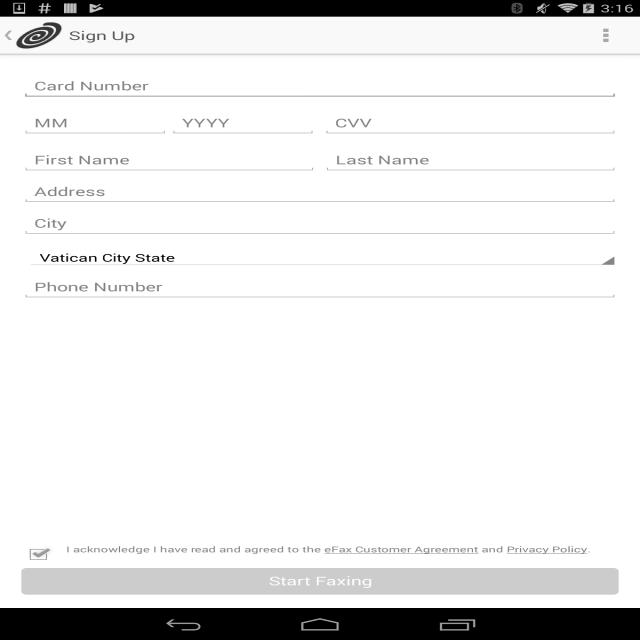Button: (21, 568, 619, 595)
CheckBox: (22, 544, 56, 565)
EditText: (21, 178, 619, 205), (21, 73, 619, 99), (21, 210, 619, 236), (21, 274, 619, 300), (322, 110, 619, 136), (21, 147, 318, 173), (322, 147, 618, 173), (21, 110, 169, 136), (169, 110, 317, 136)
ImageButton: (571, 16, 640, 54)
ImageView: (14, 19, 64, 52), (0, 30, 17, 41)
Spinner: (26, 247, 618, 268)
TextView: (31, 250, 602, 265), (66, 544, 591, 554), (69, 27, 135, 43)
